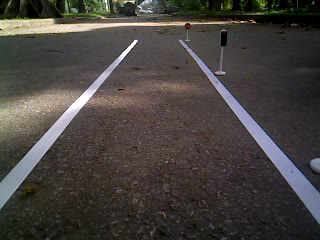Red: (217, 28, 231, 50)
Stop: (183, 20, 194, 34)
